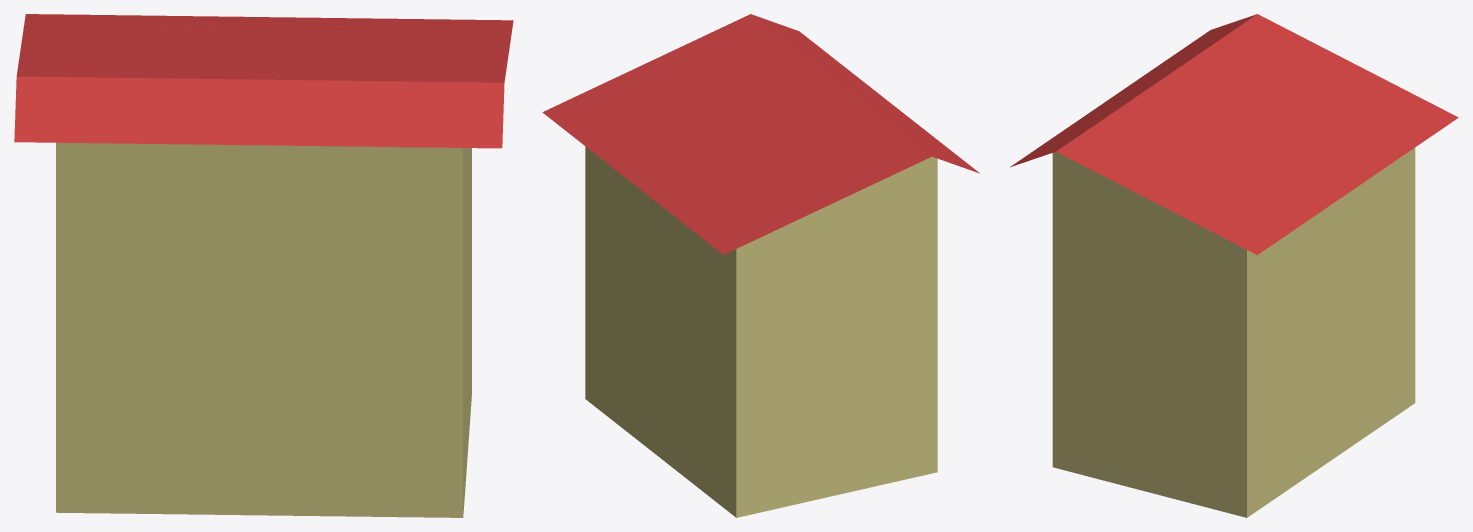
The picture shows the model from 3 angles, left to right: view 1: azimuth 30°, elevation 25°; view 2: azimuth 150°, elevation 25°; view 3: azimuth 270°, elevation 25°; orthographic projection. The views are drawn at different scales.
Size of the model in its own units: 7.55 by 7.08 by 5.77.
